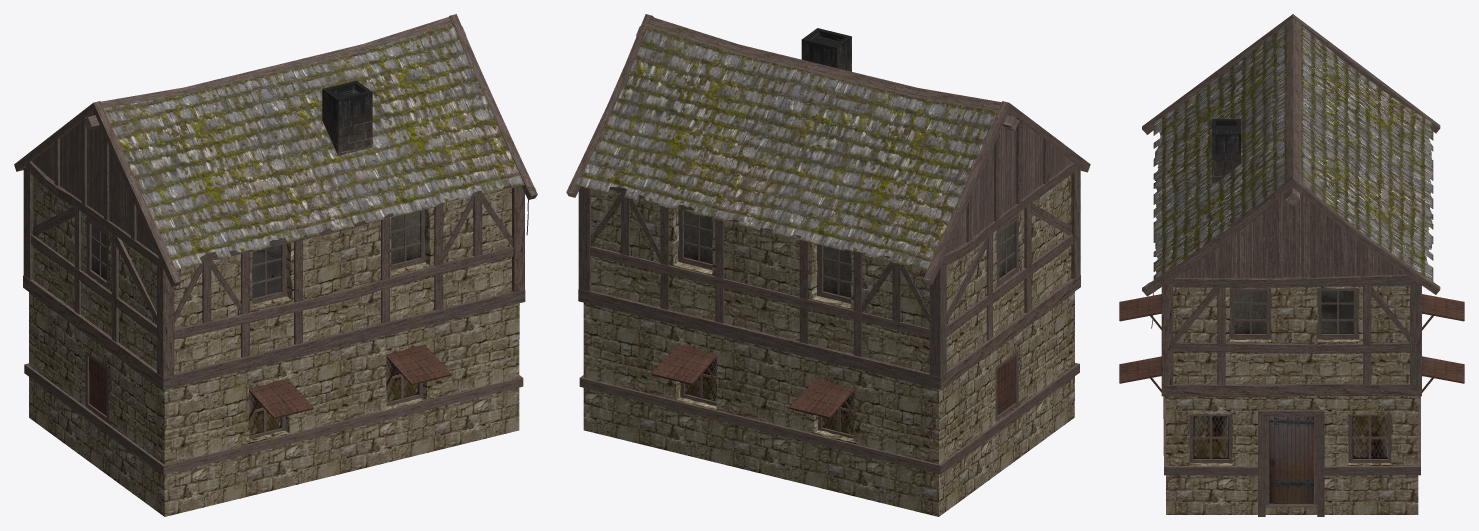
Rendered from building_2.fbx.
The picture shows the model from 3 angles, left to right: view 1: azimuth 30°, elevation 25°; view 2: azimuth 150°, elevation 25°; view 3: azimuth 270°, elevation 25°; orthographic projection. The views are drawn at different scales.
Parts seen in each view (by area): view 1: building_2; view 2: building_2; view 3: building_2.
Boxes of the visible parts, x1,y1,x2,y2 form: building_2: (14, 14, 537, 516); building_2: (566, 14, 1090, 516); building_2: (1119, 14, 1464, 516).
Size of the model in its own units: 1105 by 1030 by 951.
